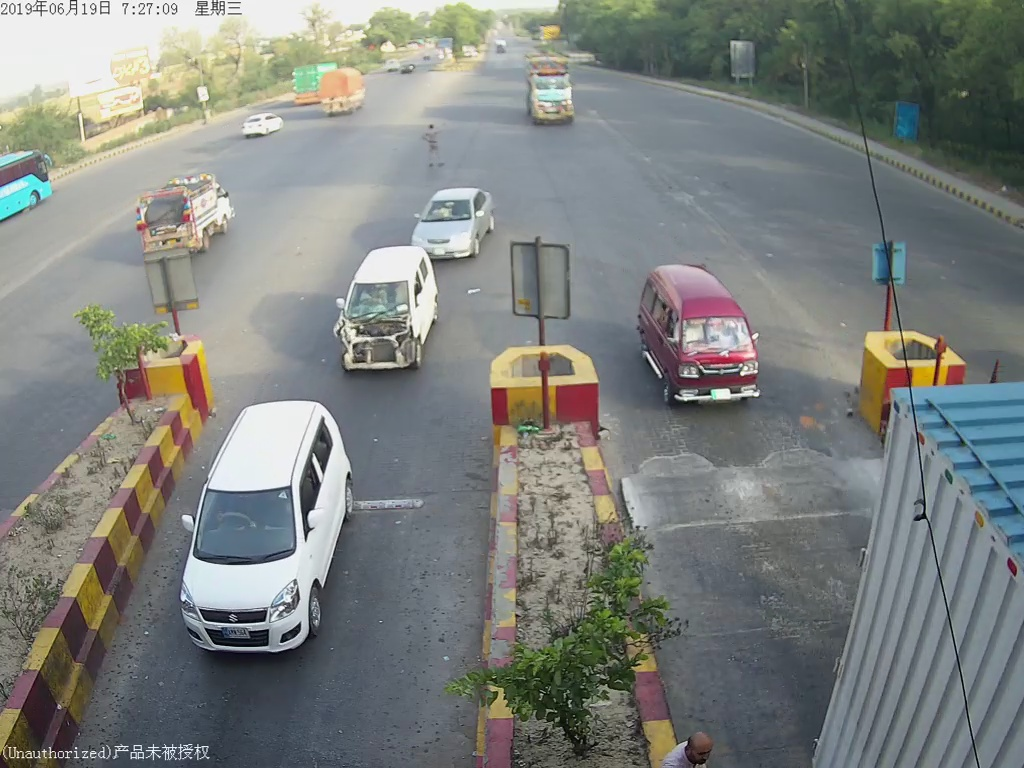Cat-1: (179, 403, 357, 655), (638, 269, 771, 414), (334, 245, 440, 376), (410, 184, 500, 240)
Cat-4: (524, 60, 579, 129)
